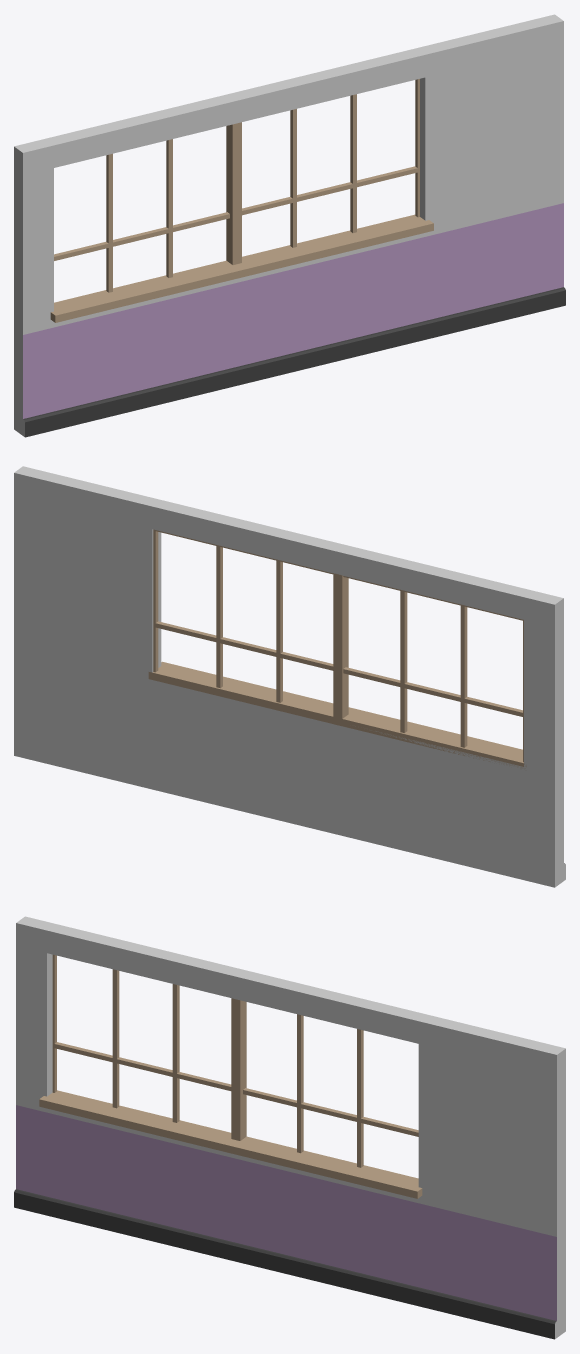
File: Kinder1_Window_Right.fbx
3 views of the same model, one above another, from view 1: azimuth 30°, elevation 25°; view 2: azimuth 150°, elevation 25°; view 3: azimuth 330°, elevation 25° (orthographic).
Visible parts, largest first — view 1: WallFloor2_10; view 2: WallFloor2_10; view 3: WallFloor2_10.
Part boxes in pixels (x1=…): WallFloor2_10: x1=14, y1=14, x2=565, y2=437; WallFloor2_10: x1=14, y1=466, x2=565, y2=887; WallFloor2_10: x1=14, y1=916, x2=565, y2=1339.
Bounding box in the file's own units: 500 × 250 × 21.92.
